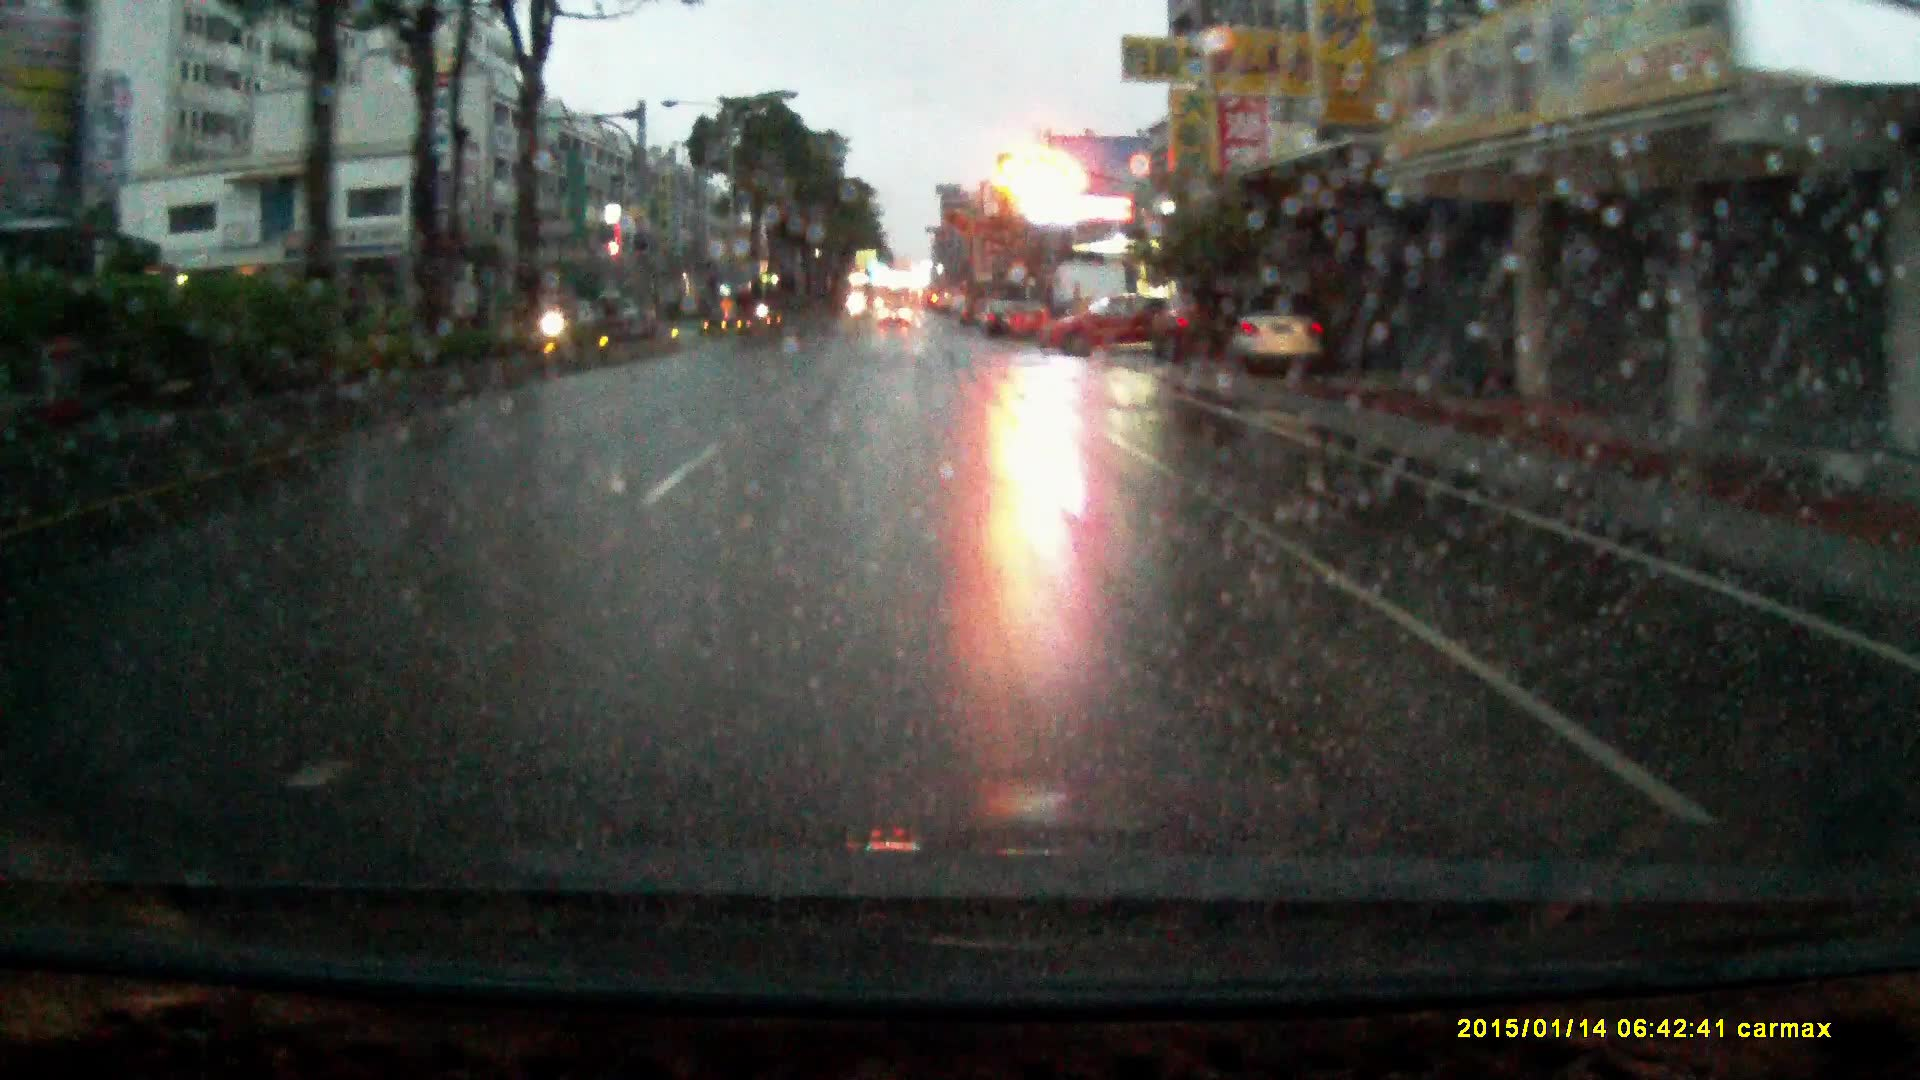vehicle: (1034, 293, 1185, 356), (1226, 293, 1331, 377), (1150, 286, 1241, 363), (510, 295, 585, 340), (1007, 298, 1052, 339), (978, 299, 1021, 338), (880, 301, 913, 328)
